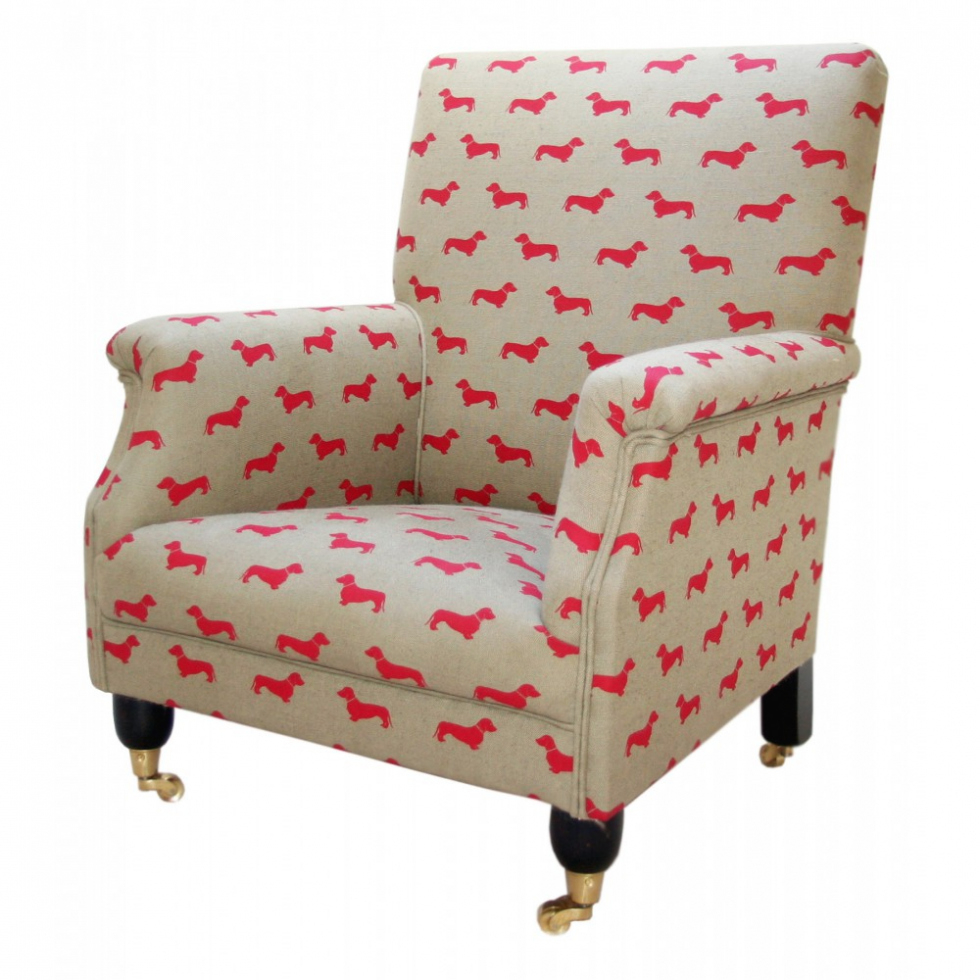chairs: (79, 46, 894, 927)
